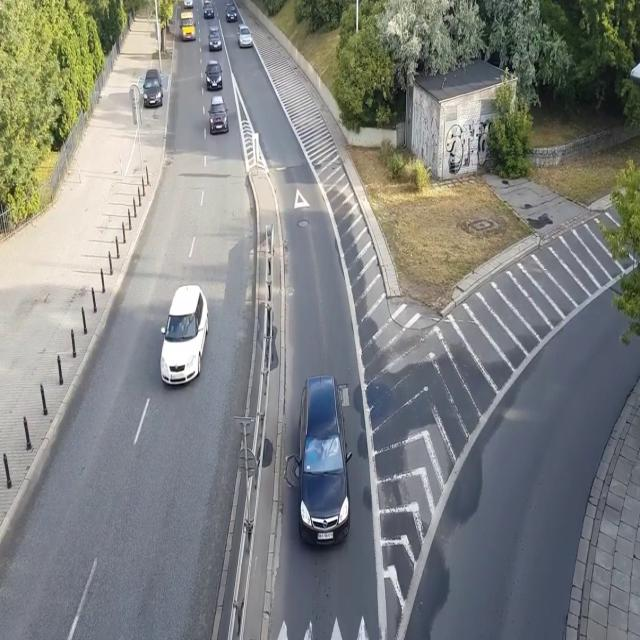car: (294, 375, 353, 551), (160, 282, 210, 392), (142, 65, 163, 110), (208, 95, 228, 136), (204, 58, 223, 91), (237, 22, 253, 51), (207, 24, 223, 51), (225, 1, 238, 25), (202, 0, 215, 21), (182, 0, 194, 9)
van: (179, 9, 196, 43)
